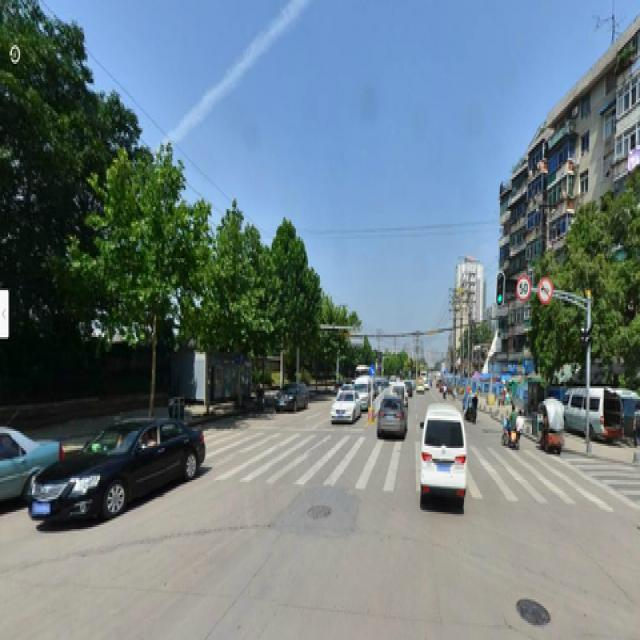meta: (102, 156, 210, 424)
